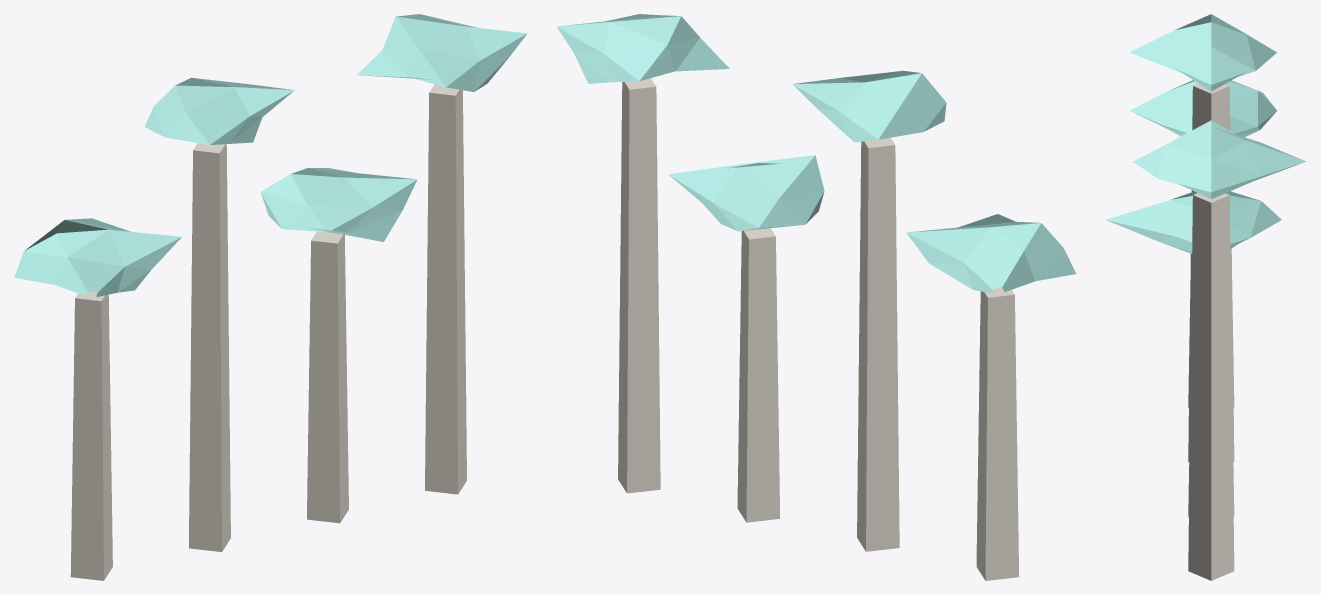
File: glowcap_v26.glb
3 renders of one model, left to right at view 1: azimuth 30°, elevation 25°; view 2: azimuth 150°, elevation 25°; view 3: azimuth 270°, elevation 25°, orthographic. The views are drawn at different scales.
Parts seen in each view (by area): view 1: lod0; view 2: lod0; view 3: lod0.
Part boxes in pixels (left/top/right/bottom): lod0: left=14, top=14, right=527, bottom=580; lod0: left=557, top=14, right=1076, bottom=580; lod0: left=1106, top=14, right=1305, bottom=580.
Size of what is drawn, in the model's own units: 0.6093 by 0.5268 by 0.2181.
